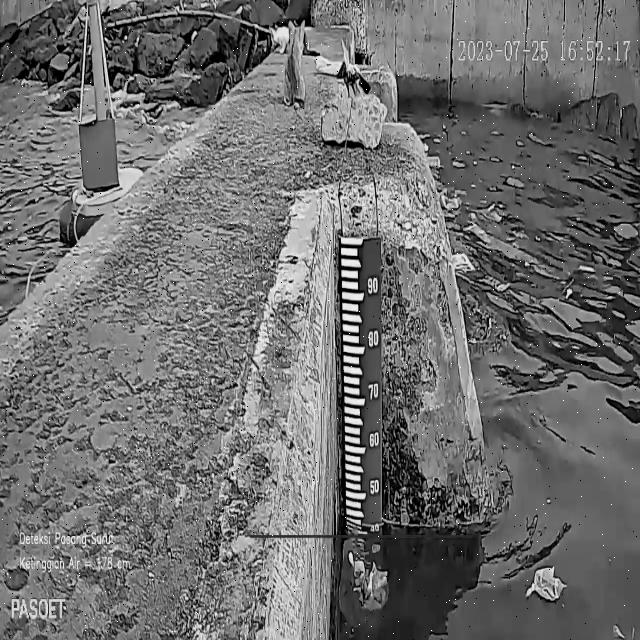50: (369, 479, 380, 496)
60: (368, 431, 380, 448)
70: (368, 382, 379, 400)
80: (368, 328, 379, 348)
90: (366, 276, 378, 296)
staff: (340, 235, 382, 527)
